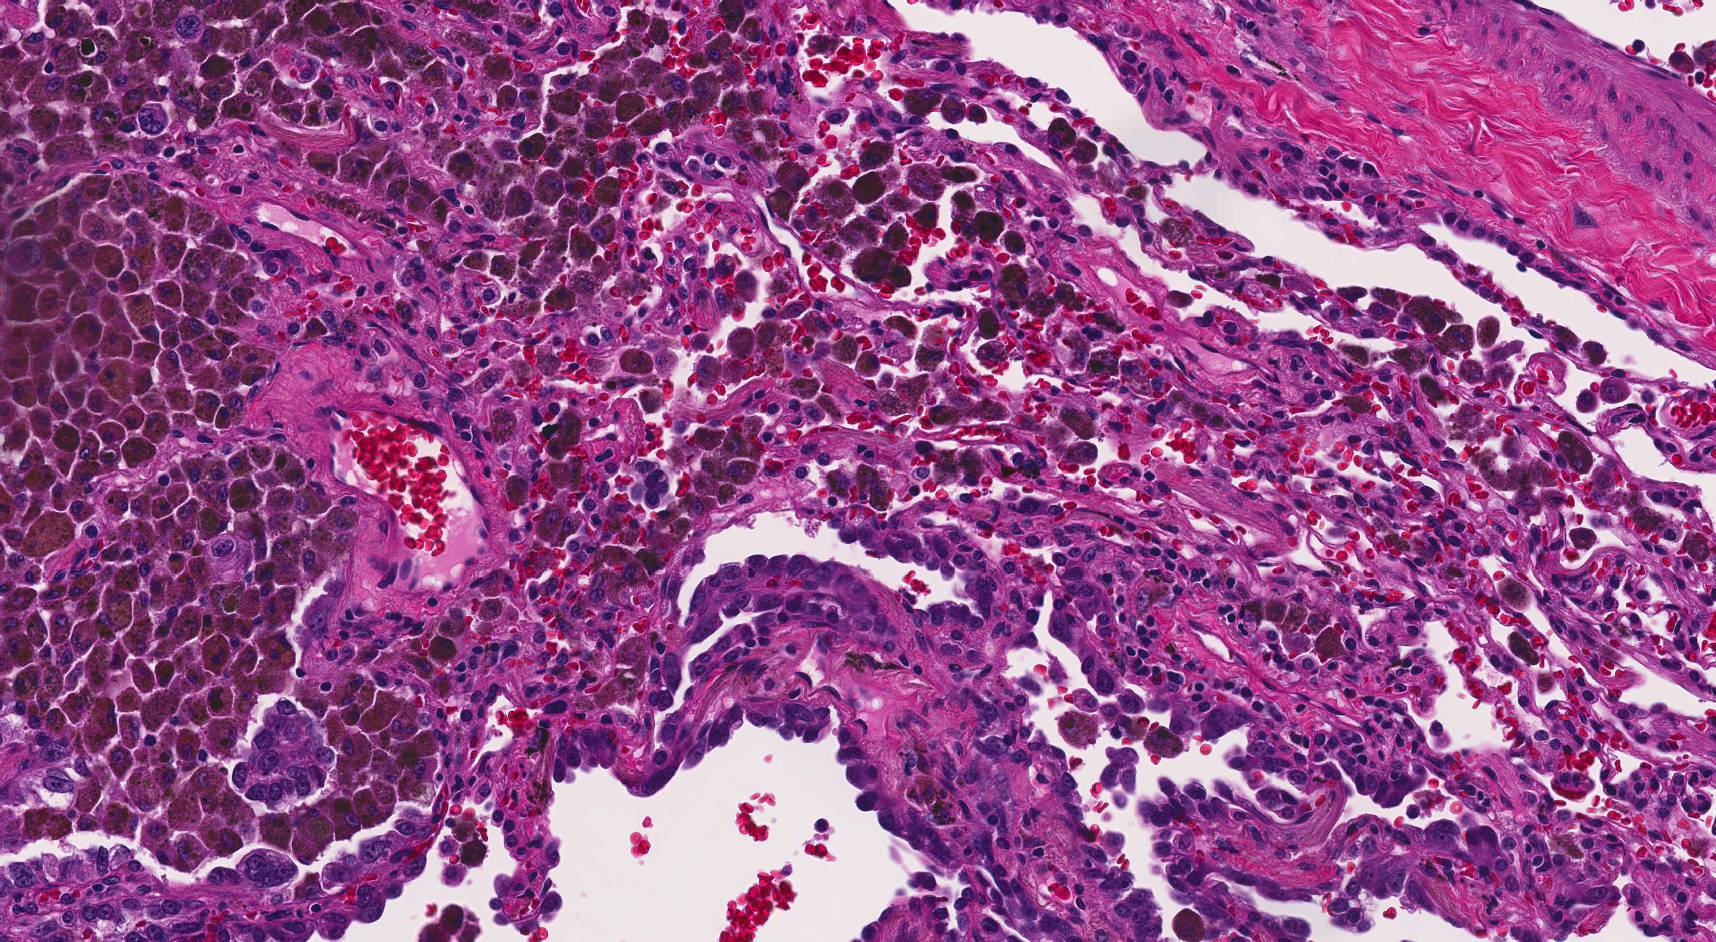stas: (232, 699, 335, 804)
